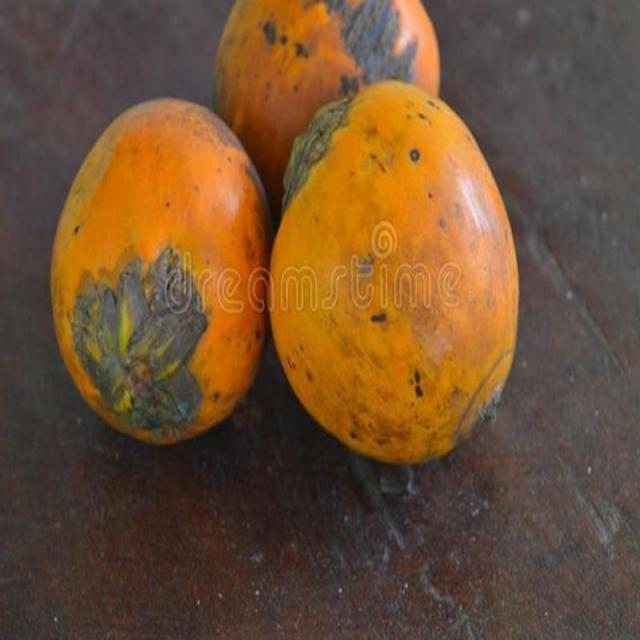good: (268, 81, 520, 468), (48, 100, 278, 449), (210, 0, 438, 217)
